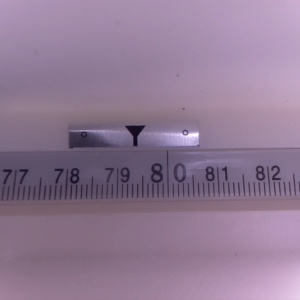0: (173, 162, 187, 182)
2: (270, 165, 281, 181)
7: (17, 169, 28, 185), (1, 169, 12, 185), (103, 167, 113, 183), (53, 169, 63, 184)
8: (150, 163, 163, 182), (69, 168, 80, 184), (255, 165, 265, 181), (206, 166, 215, 181)
9: (119, 167, 129, 183)
finger: (123, 125, 146, 147)
